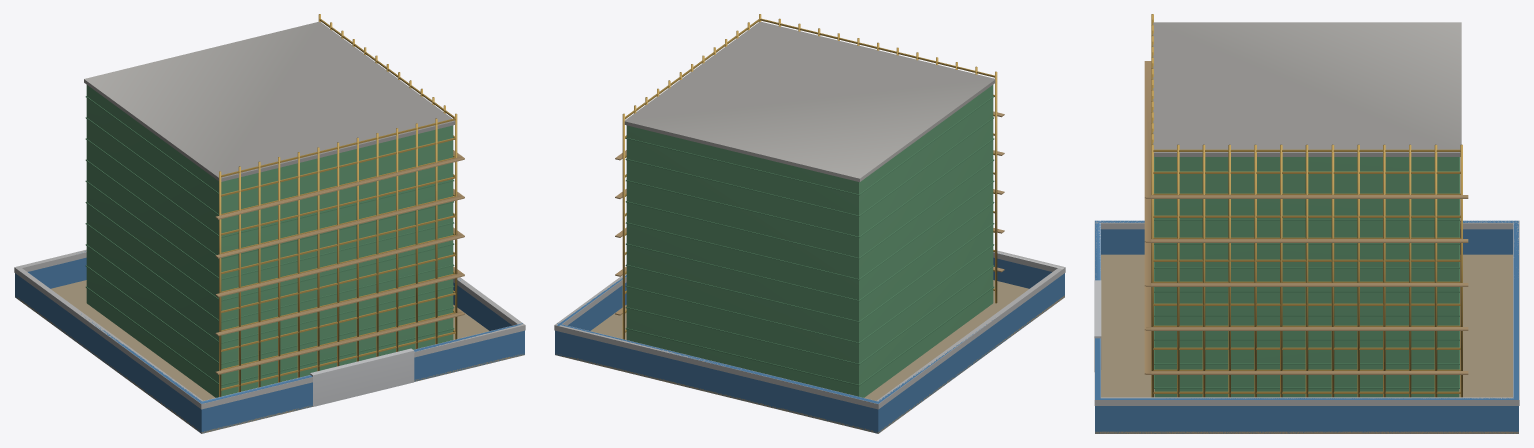
File: build-2-2.glb
3 renders of one model, left to right at view 1: azimuth 30°, elevation 25°; view 2: azimuth 150°, elevation 25°; view 3: azimuth 270°, elevation 25°, orthographic. The views are drawn at different scales.
Parts seen in each view (by area): view 1: build-2-2; view 2: build-2-2; view 3: build-2-2.
Part boxes in pixels (x1,y1,x2,y2): build-2-2: (14, 14, 525, 433); build-2-2: (554, 14, 1065, 433); build-2-2: (1094, 14, 1519, 433).
Size of the model in its own units: 1.92 by 1.32 by 1.93.
